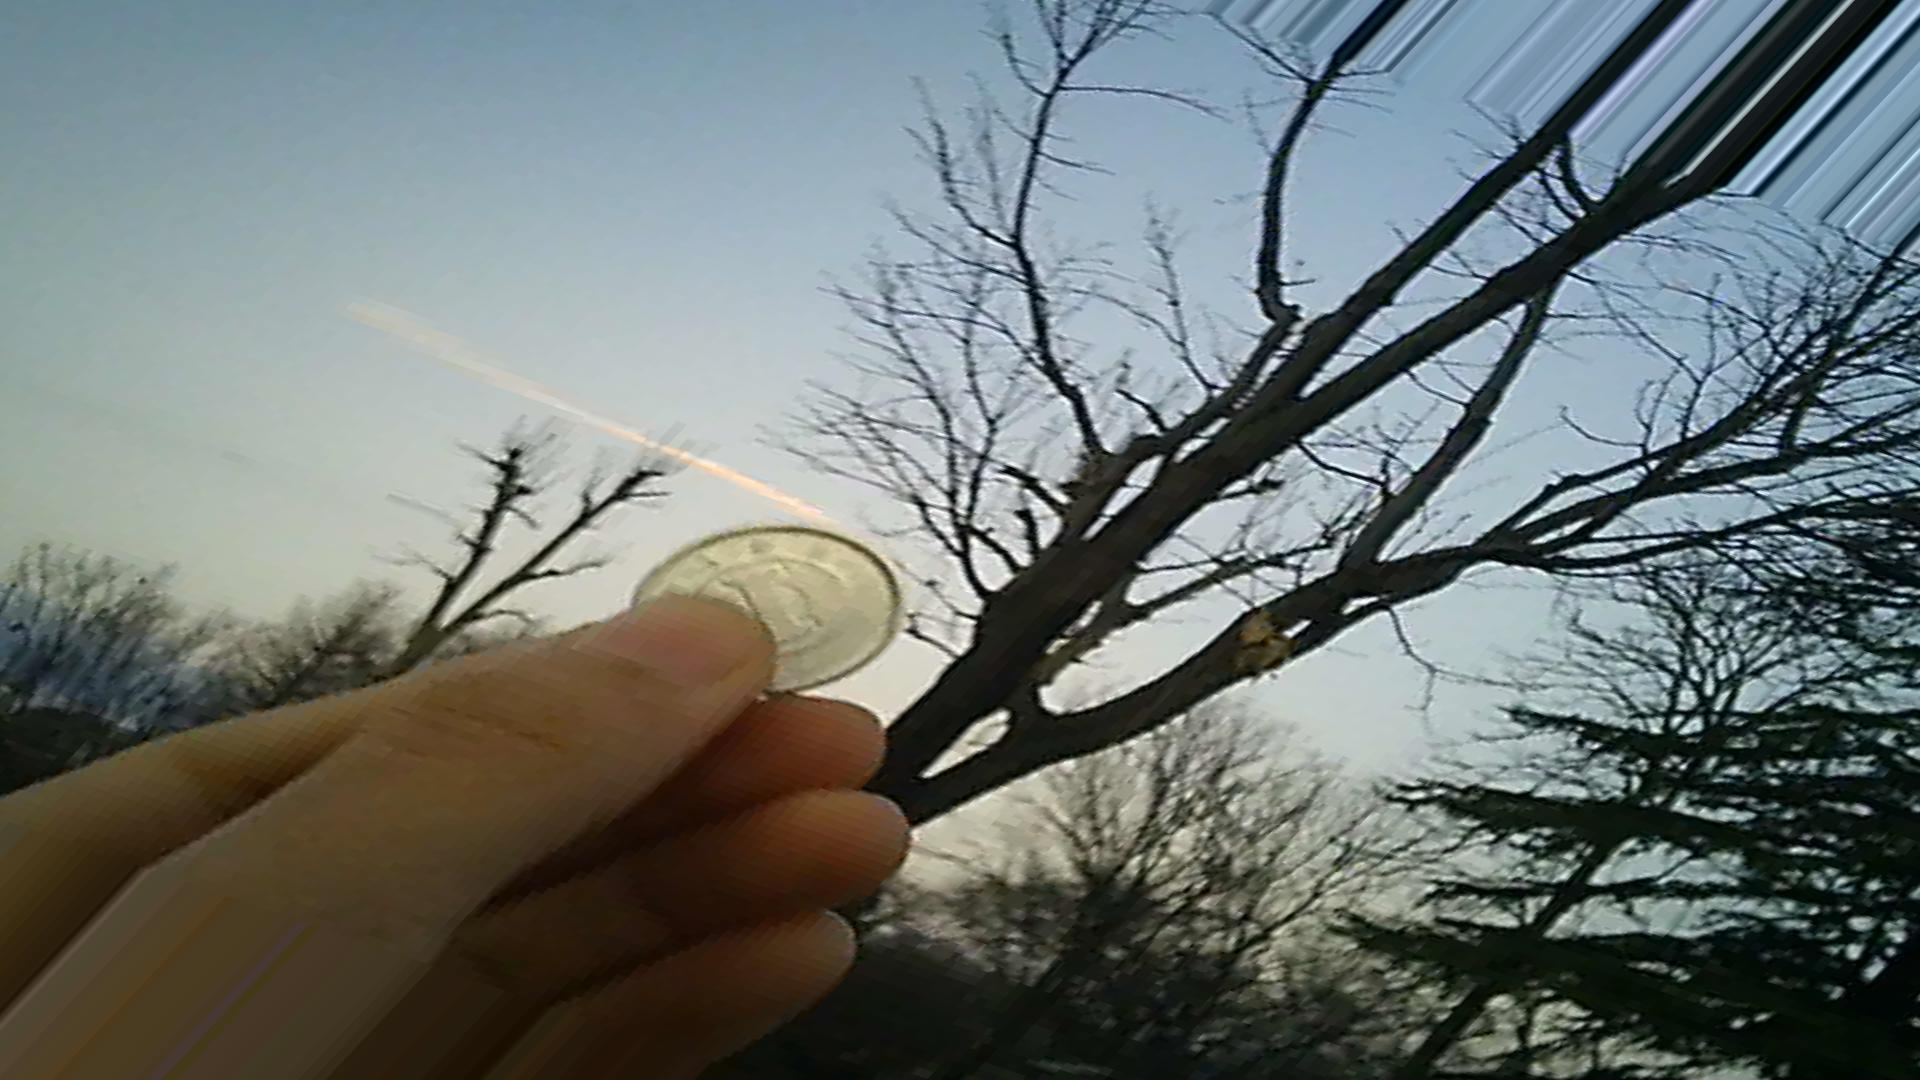1 Yen: (621, 521, 934, 713)
